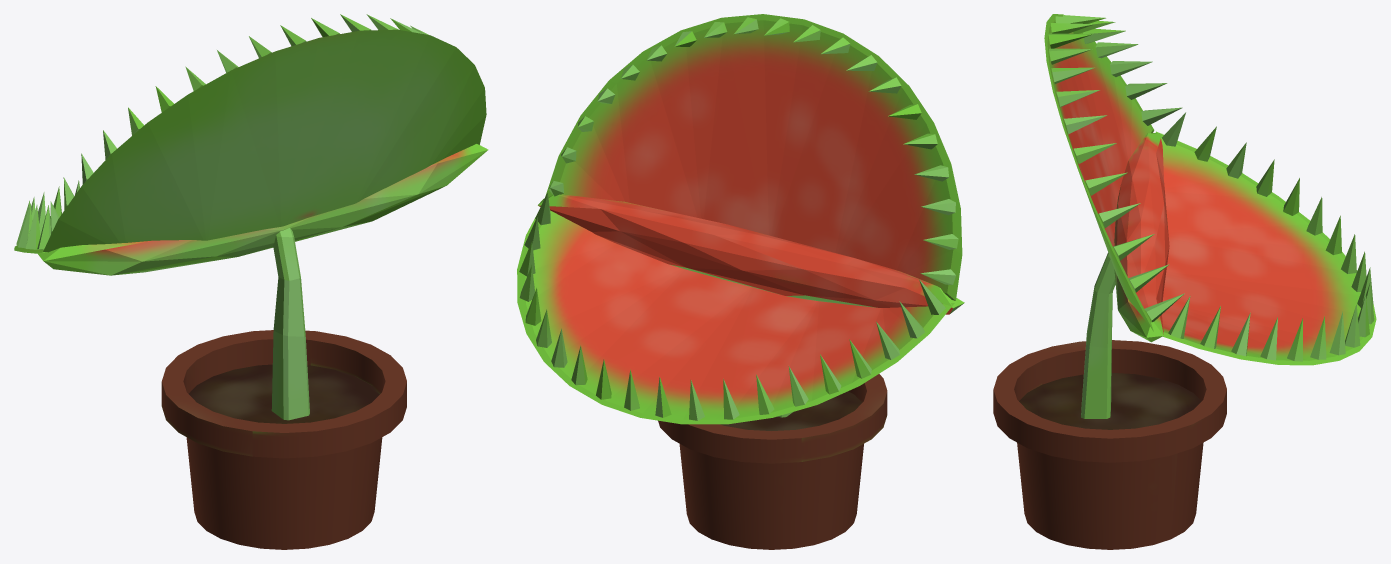
File: Flytrap_lvl_3_wholetextured(1).glb
3 views of the same model, side by side, from view 1: azimuth 30°, elevation 25°; view 2: azimuth 150°, elevation 25°; view 3: azimuth 270°, elevation 25° (orthographic). The views are drawn at different scales.
Visible parts, largest first — view 1: Flytrap_lvl_3; view 2: Flytrap_lvl_3; view 3: Flytrap_lvl_3.
Boxes of the visible parts, <box> form: Flytrap_lvl_3: <box>14,14,488,549</box>; Flytrap_lvl_3: <box>517,14,964,549</box>; Flytrap_lvl_3: <box>993,14,1376,549</box>.
Size of the model in its own units: 2.24 by 2.4 by 1.75.
1 material, 1 textured.
